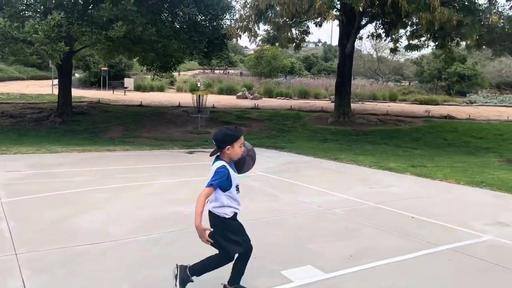ball: (228, 140, 256, 174)
human: (173, 127, 253, 288)
